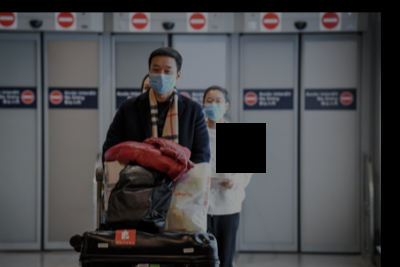with_mask: (147, 62, 176, 95), (203, 95, 225, 123)
